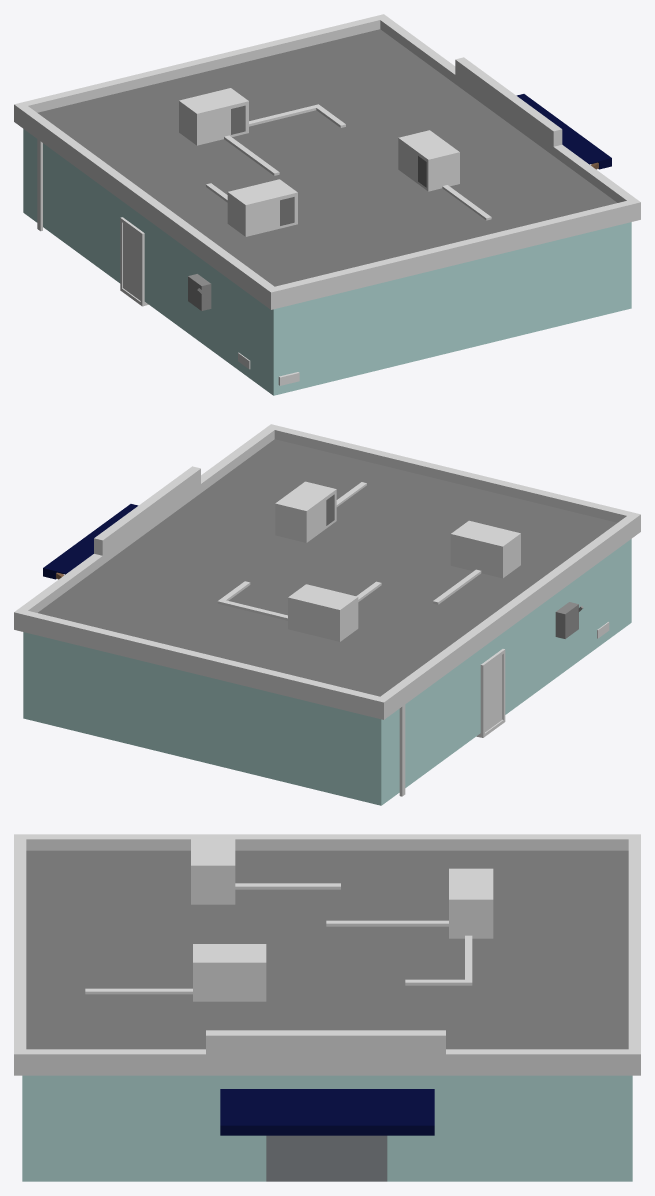
3 renders of one model, top to bottom at view 1: azimuth 30°, elevation 25°; view 2: azimuth 150°, elevation 25°; view 3: azimuth 270°, elevation 25°, orthographic. The views are drawn at different scales.
Parts seen in each view (by area): view 1: Cube.007, Cube, Cube.012, Cube.001, Cube.011, Cube.004, Plane, Cube.002, Cube.005; view 2: Cube.007, Cube, Cube.001, Cube.012, Cube.011, Cube.004, Plane, Cube.002, Cube.005; view 3: Cube.007, Cube, Plane, Cube.009, Cube.011, Cube.012, Cube.001, Cube.015, Cube.013, Cube.014.
Part boxes in pixels (x1,y1,x2,y2): Cube.007: (23, 29, 631, 395); Cube: (14, 14, 640, 309); Cube.012: (227, 179, 297, 236); Cube.001: (179, 88, 248, 145); Cube.011: (398, 130, 459, 191); Cube.004: (120, 217, 148, 306); Plane: (516, 94, 611, 169); Cube.002: (188, 274, 211, 310); Cube.005: (37, 139, 42, 231); Cube.007: (23, 439, 631, 805); Cube: (14, 424, 640, 719); Cube.001: (288, 584, 358, 641); Cube.012: (450, 520, 520, 578); Cube.011: (275, 481, 336, 542); Cube.004: (476, 649, 505, 737); Plane: (43, 504, 138, 579); Cube.002: (555, 602, 578, 638); Cube.005: (399, 704, 405, 796); Cube.007: (22, 850, 632, 1181); Cube: (14, 834, 640, 1075); Plane: (220, 1089, 434, 1135); Cube.009: (266, 1135, 387, 1181); Cube.011: (193, 944, 266, 1001); Cube.012: (191, 834, 235, 904); Cube.001: (449, 868, 493, 938); Cube.015: (326, 920, 448, 926); Cube.013: (85, 988, 192, 994); Cube.014: (235, 883, 340, 889).
Bounding box in the file's own units: 200 × 59.22 × 205.
